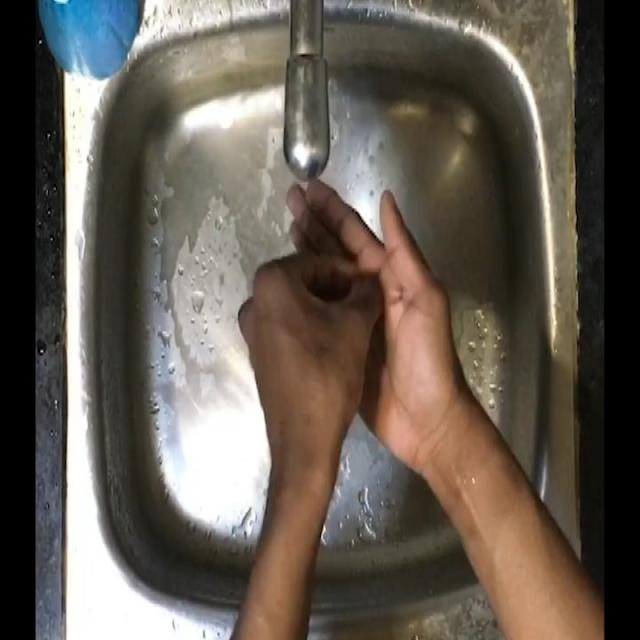step_6: (232, 169, 455, 476)
